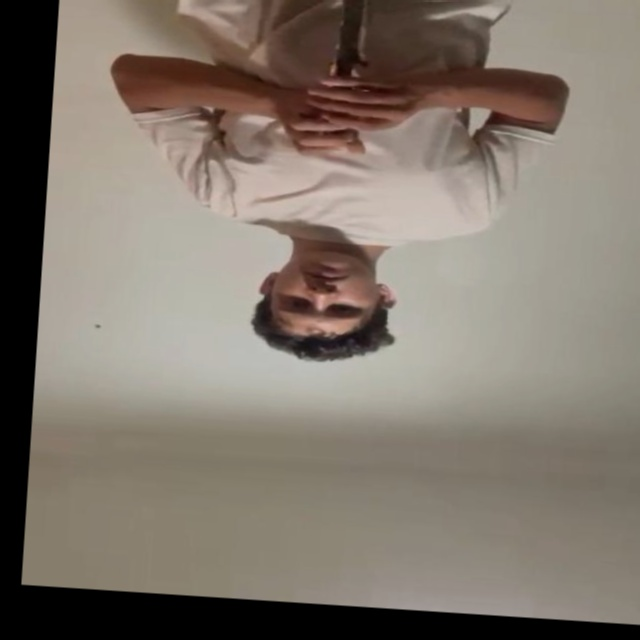Sharp-Object: (334, 0, 387, 62)
